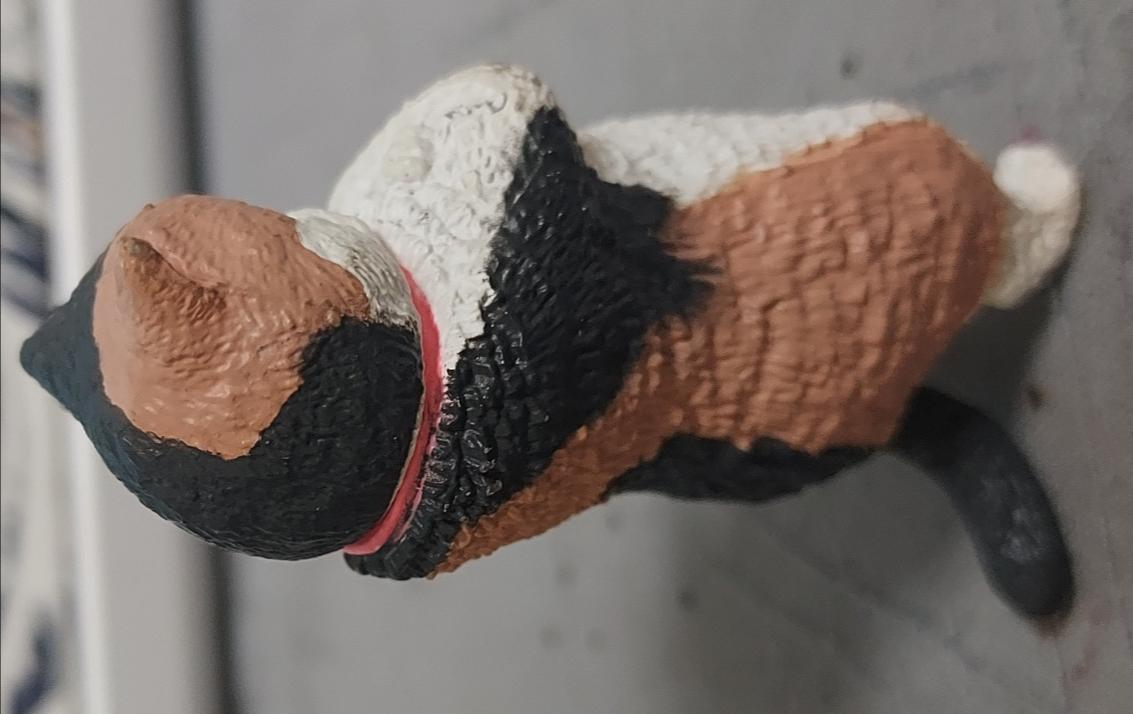cat: (1, 0, 1133, 714)
